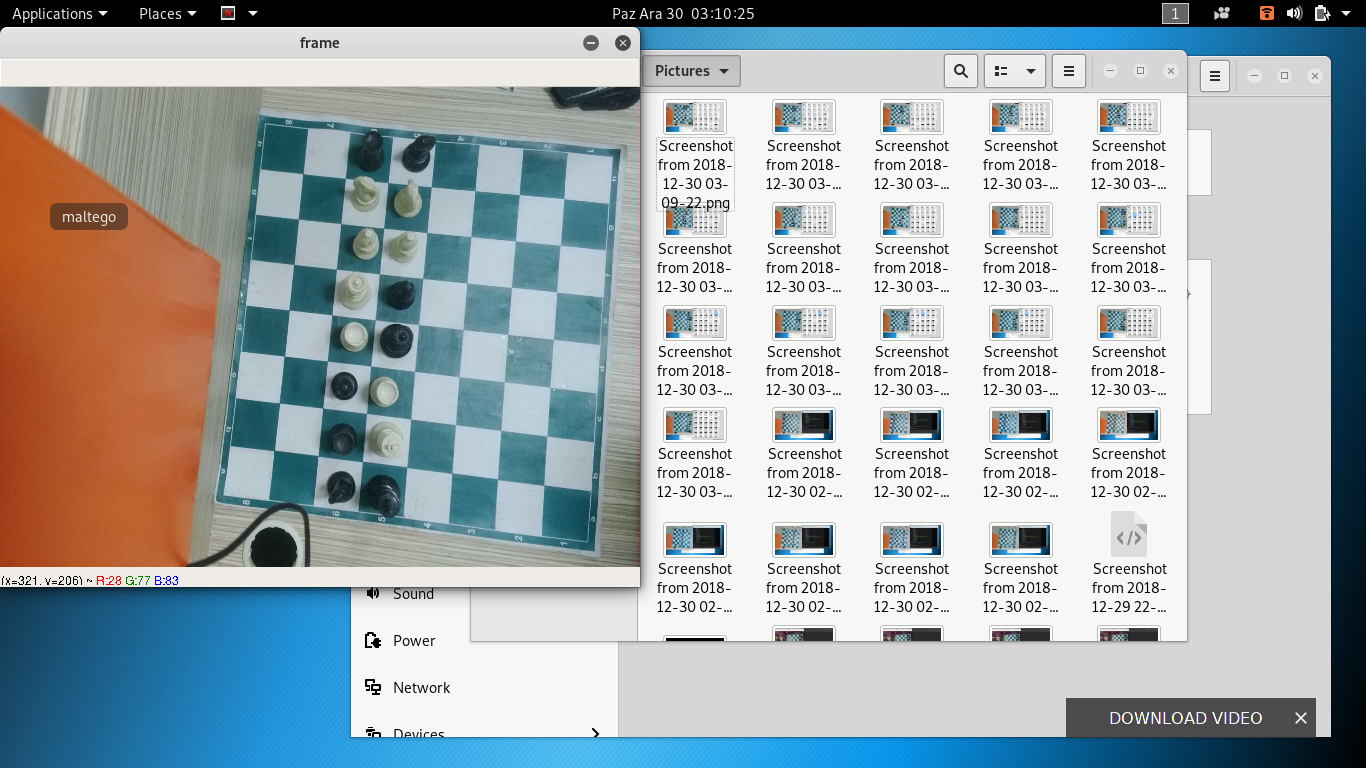BeyazAt: (390, 178, 424, 218), (348, 176, 381, 212)
BeyazFil: (351, 227, 379, 259), (388, 233, 416, 263)
BeyazKale: (368, 375, 402, 410), (340, 321, 370, 352)
BeyazSah: (372, 420, 406, 459)
BeyazVezir: (338, 271, 373, 309)
SiyahAt: (402, 135, 436, 172), (327, 469, 354, 505)
SiyahFil: (330, 370, 358, 401), (388, 280, 415, 308)
SiyahKale: (357, 132, 386, 170), (325, 424, 358, 456)
SiyahSah: (366, 474, 402, 518)
SiyahVezir: (379, 324, 414, 358)
